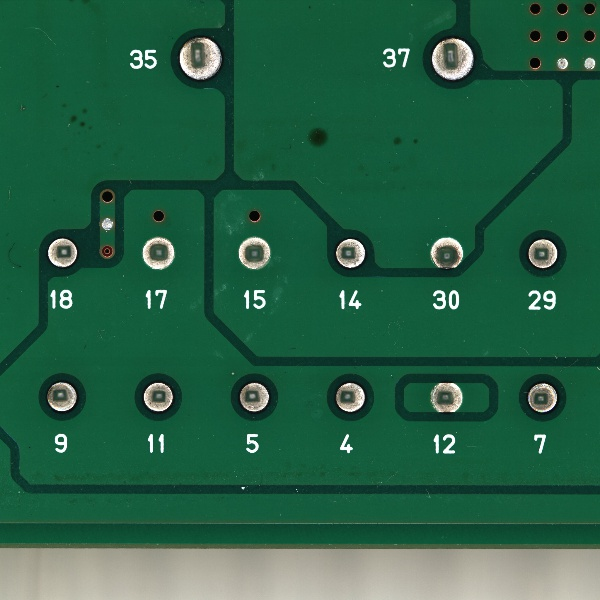Circle: (175, 34, 226, 84), (427, 33, 476, 85), (137, 233, 179, 272), (233, 234, 273, 273), (427, 234, 465, 274), (332, 234, 369, 274), (331, 378, 369, 416), (43, 378, 81, 415), (428, 379, 464, 418), (523, 379, 560, 416), (524, 234, 560, 272), (236, 378, 272, 416), (141, 379, 176, 415), (44, 234, 79, 269)
